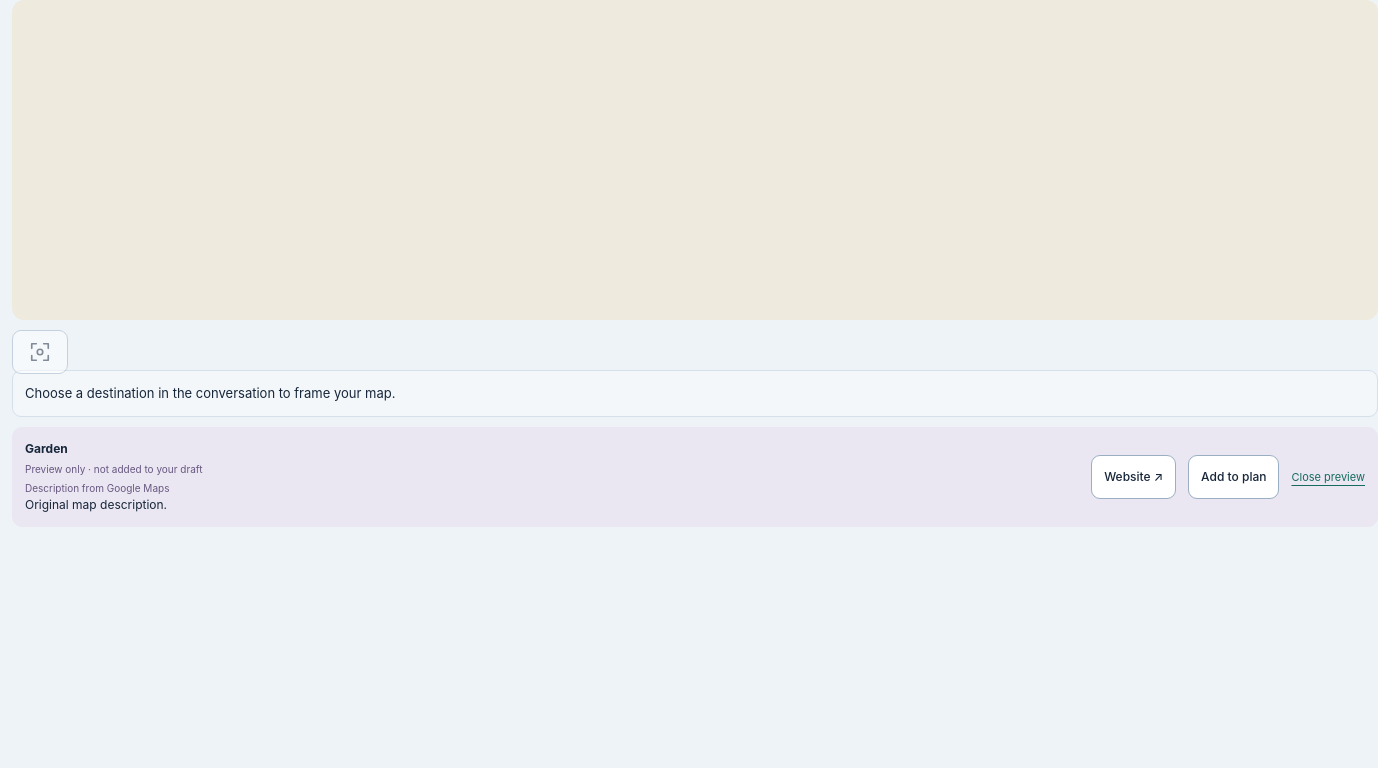
Test: temporary map previews expose the website without adding a pin
Click the button "Add to plan" at (1234, 477), box [1188, 455, 1279, 499]
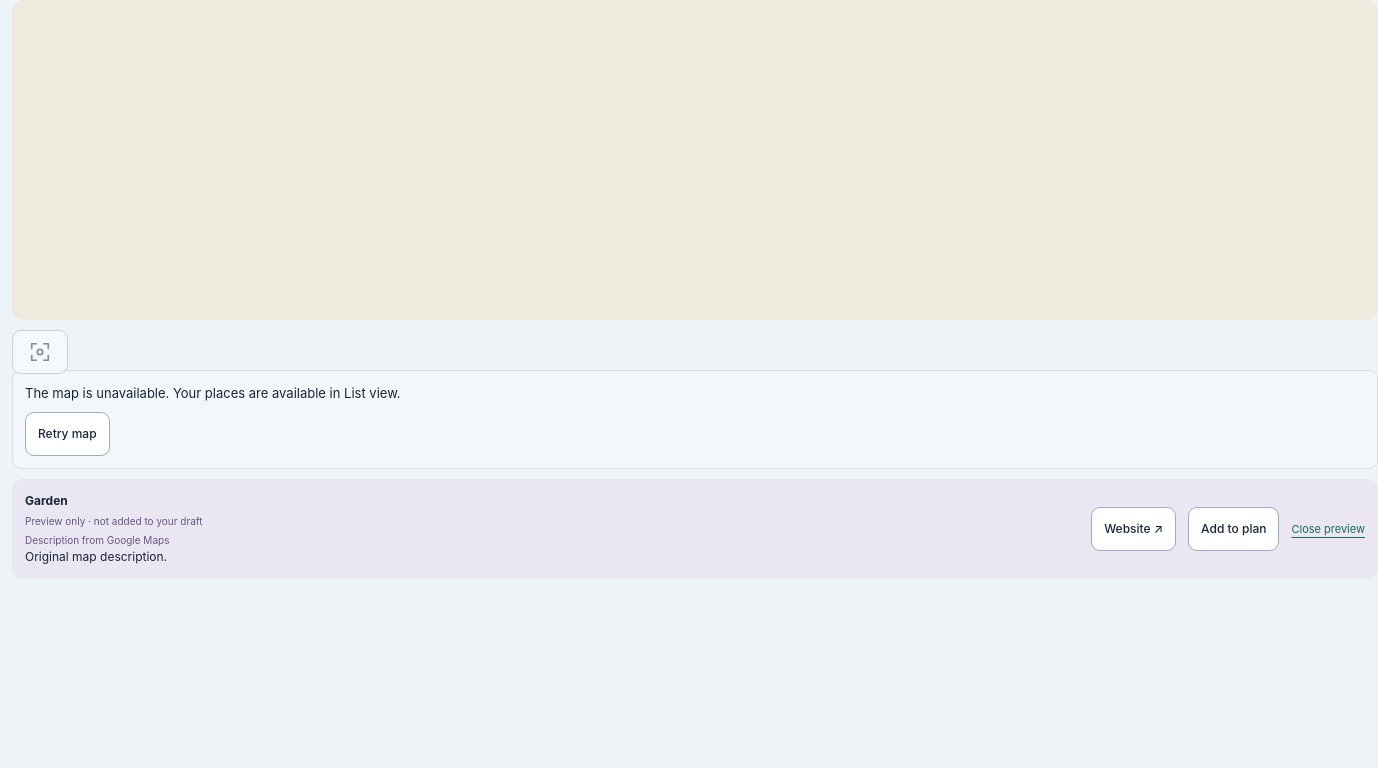
Expected: the text "Original map description." is shown, [25, 549, 167, 564]
Expected: the text "The map is unavailable. Your places are available in List view." is shown, [25, 385, 401, 401]
